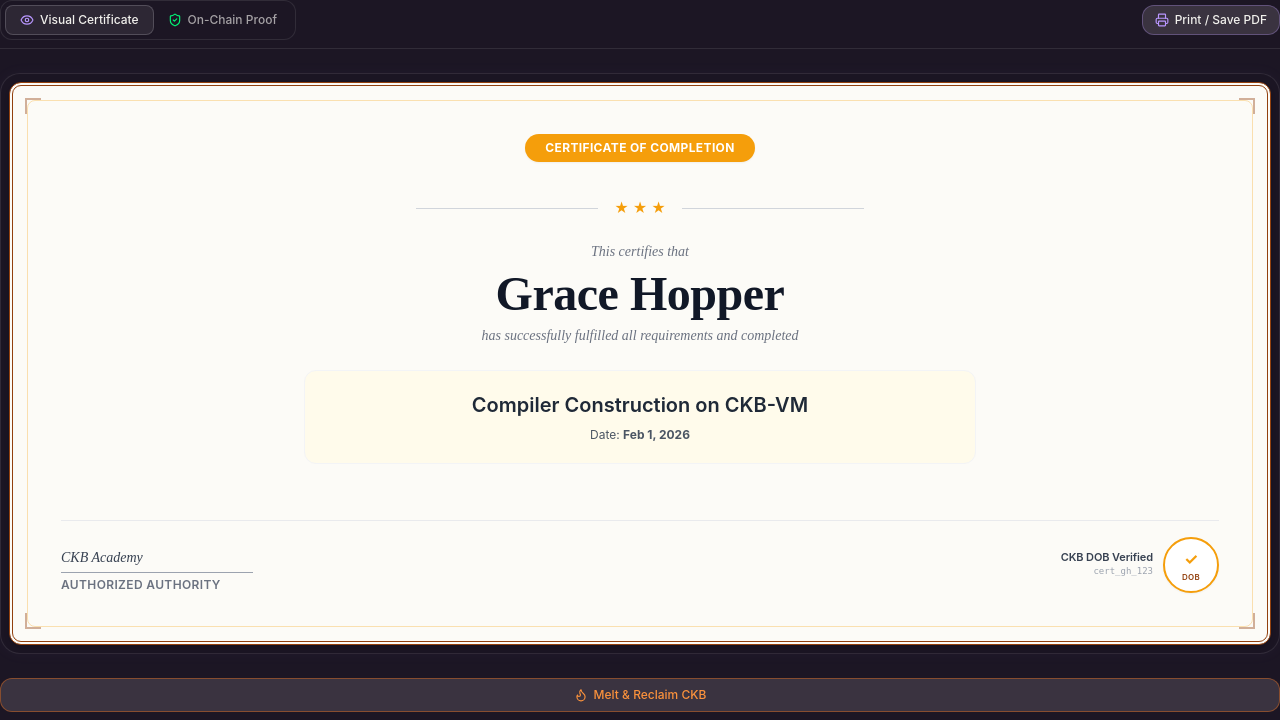
Test case: CertificateDetail Component View Toggle › opens melt modal when Melt & Reclaim CKB is clicked
Click the button "Melt & Reclaim CKB" at (640, 695), box [0, 678, 1279, 712]
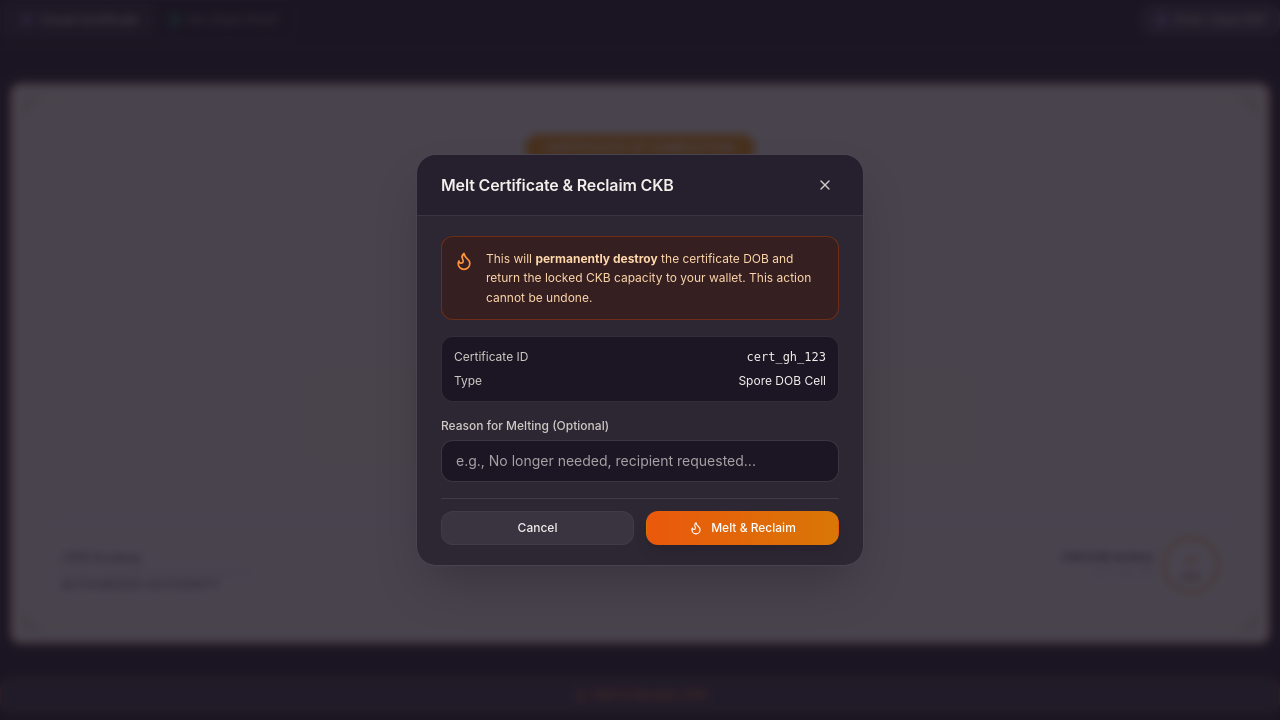
Expected: the text "permanently destroy" is shown, [535, 251, 658, 266]
